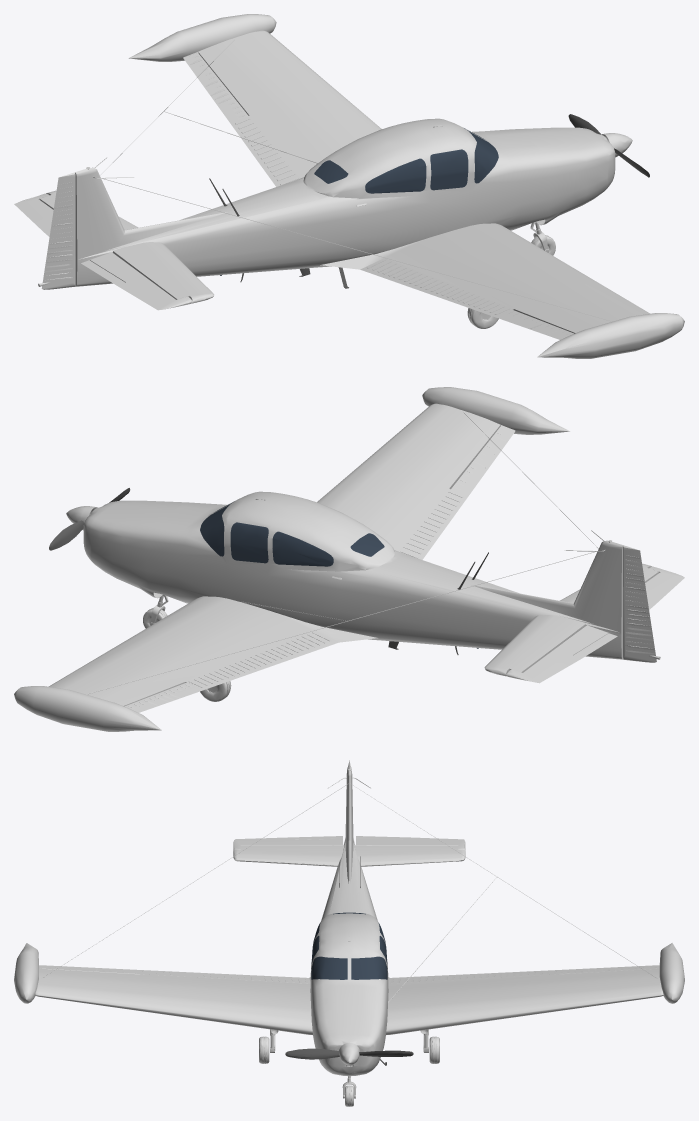
Rendered from navi.glb.
3 views of the same model, one above another, from view 1: azimuth 30°, elevation 25°; view 2: azimuth 150°, elevation 25°; view 3: azimuth 270°, elevation 25° (orthographic). The views are drawn at different scales.
Visible parts, largest first — view 1: body, glass; view 2: body, glass, spin; view 3: body, glass, spin.
Part boxes in pixels (bbox=[...]): body: bbox=[14, 14, 684, 358]; glass: bbox=[220, 128, 498, 275]; body: bbox=[14, 387, 684, 731]; glass: bbox=[200, 501, 478, 648]; spin: bbox=[49, 488, 130, 550]; body: bbox=[14, 760, 684, 1106]; glass: bbox=[311, 912, 387, 979]; spin: bbox=[285, 1048, 413, 1059].
Size of the model in its own units: 1.78 by 0.5824 by 2.2.
